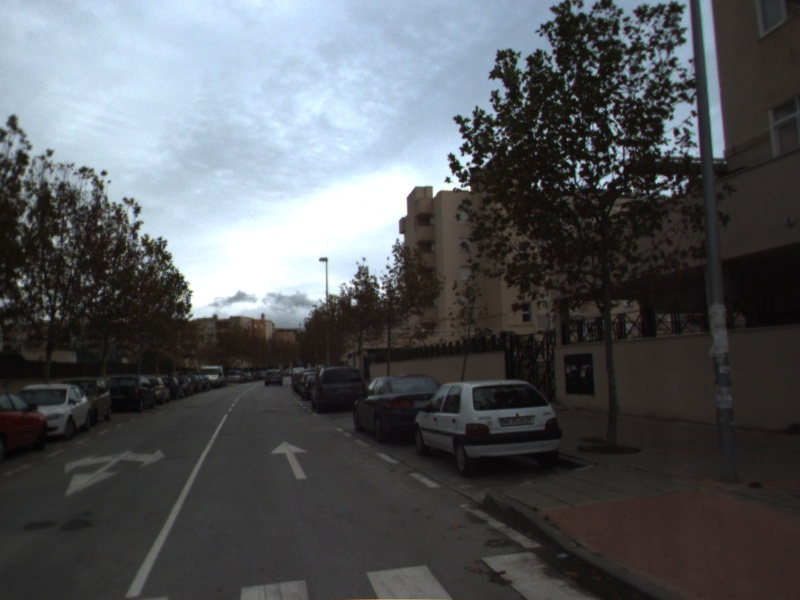STRAIGHT: (269, 439, 310, 481)
